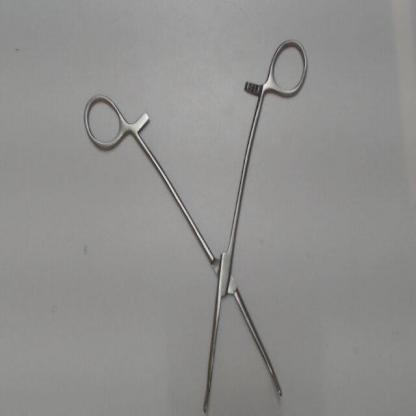Lahey Forceps: (69, 27, 312, 414)
